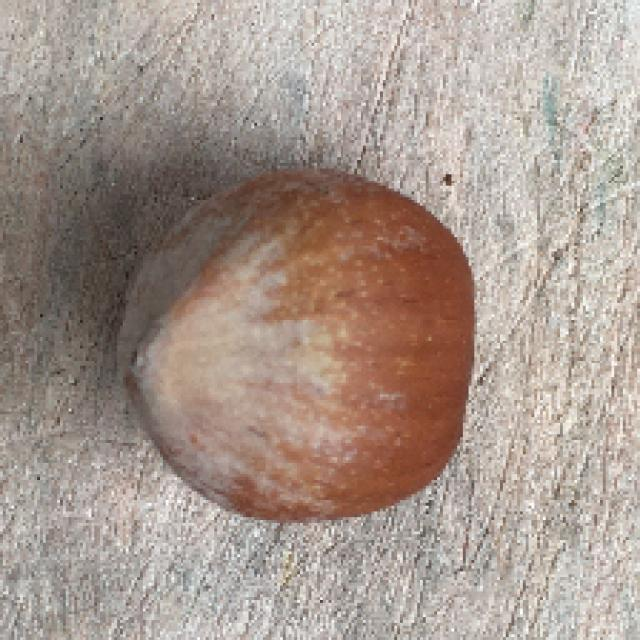qualityHazelnut: (117, 163, 479, 528)
